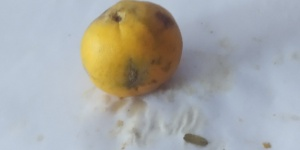BAD: (76, 1, 186, 98)
